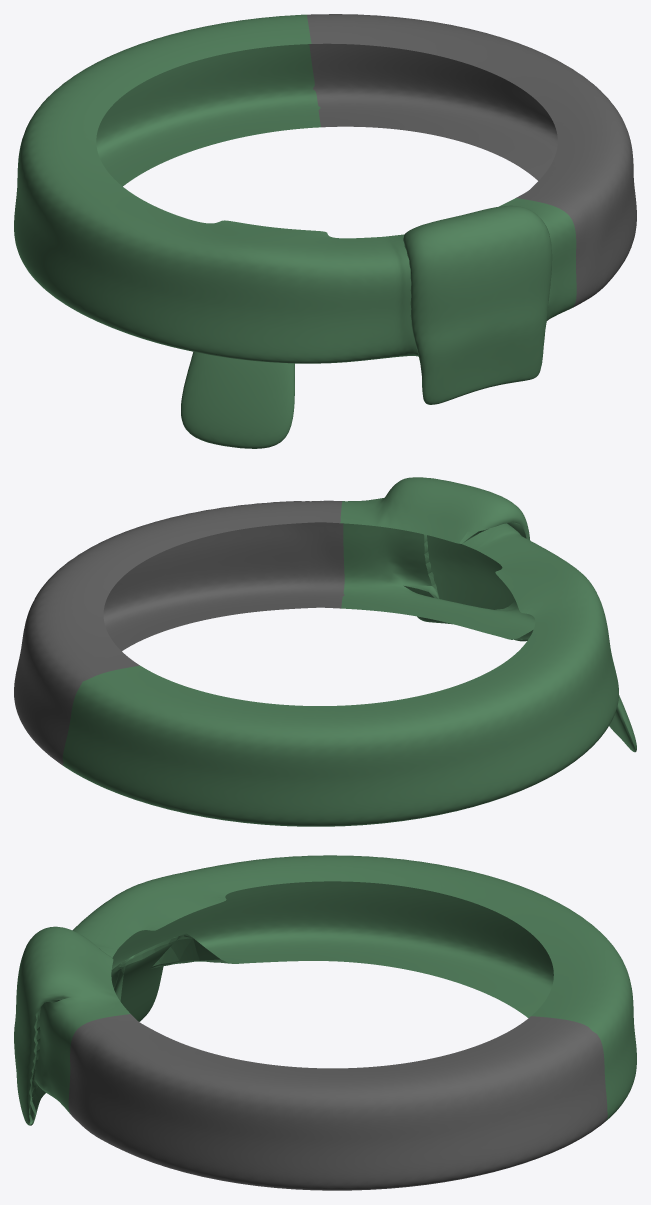
3 renders of one model, top to bottom at view 1: azimuth 30°, elevation 25°; view 2: azimuth 150°, elevation 25°; view 3: azimuth 270°, elevation 25°, orthographic. The views are drawn at different scales.
Parts seen in each view (by area): view 1: 343; view 2: 343; view 3: 343.
Part boxes in pixels (x1=…): 343: x1=14, y1=14, x2=636, y2=448; 343: x1=14, y1=477, x2=636, y2=826; 343: x1=14, y1=855, x2=636, y2=1190.
Size of the model in its own units: 48.15 by 49.12 by 16.65.
